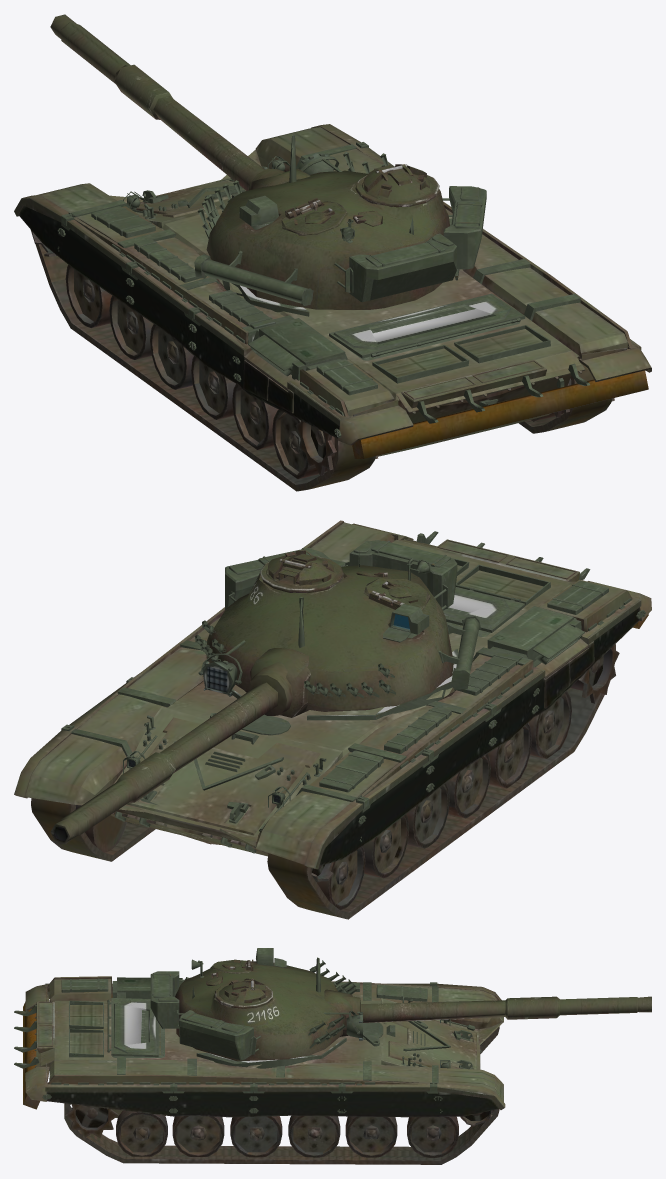
Rendered from foe.glb.
The picture shows the model from 3 angles, top to bottom: view 1: azimuth 30°, elevation 25°; view 2: azimuth 150°, elevation 25°; view 3: azimuth 270°, elevation 25°; orthographic projection. The views are drawn at different scales.
Parts seen in each view (by area): view 1: hull, turret; view 2: hull, turret; view 3: hull, turret.
Boxes of the visible parts, x1,y1,x2,y2 form: hull: (14,124,651,491); turret: (50,14,486,309); hull: (14,520,651,919); turret: (50,540,481,844); hull: (14,976,505,1164); turret: (150,948,651,1061).
Size of the model in its own units: 3.72 by 2.6 by 9.5.
4 materials, 4 textured.
